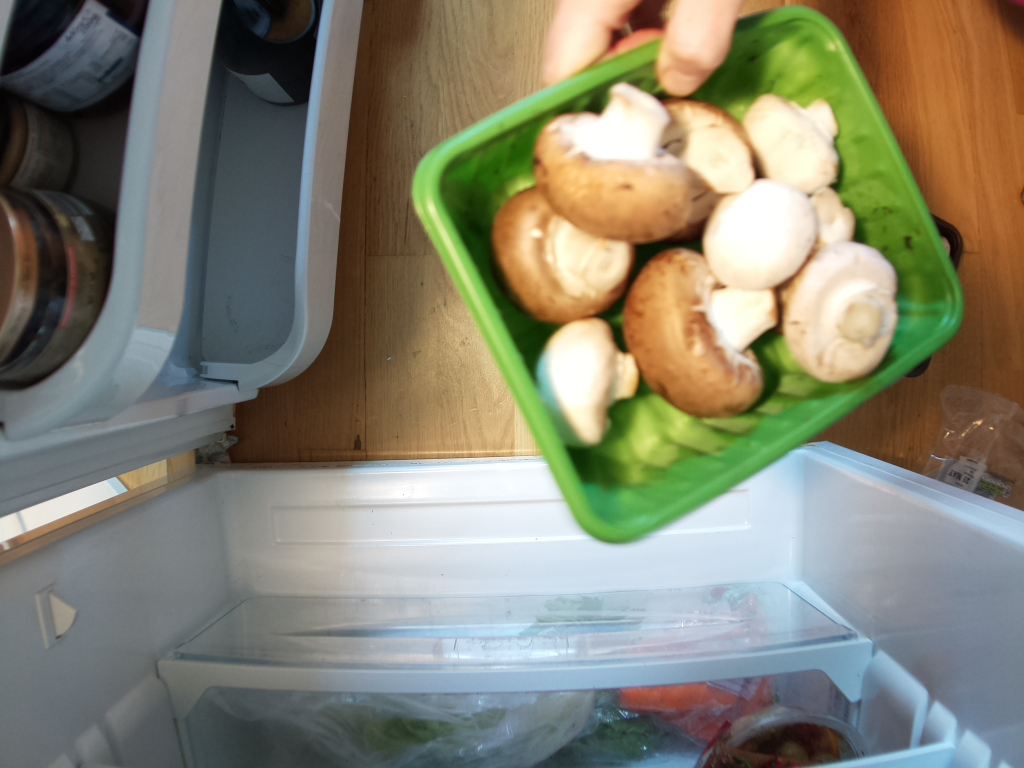mushrooms: (427, 18, 932, 553)
